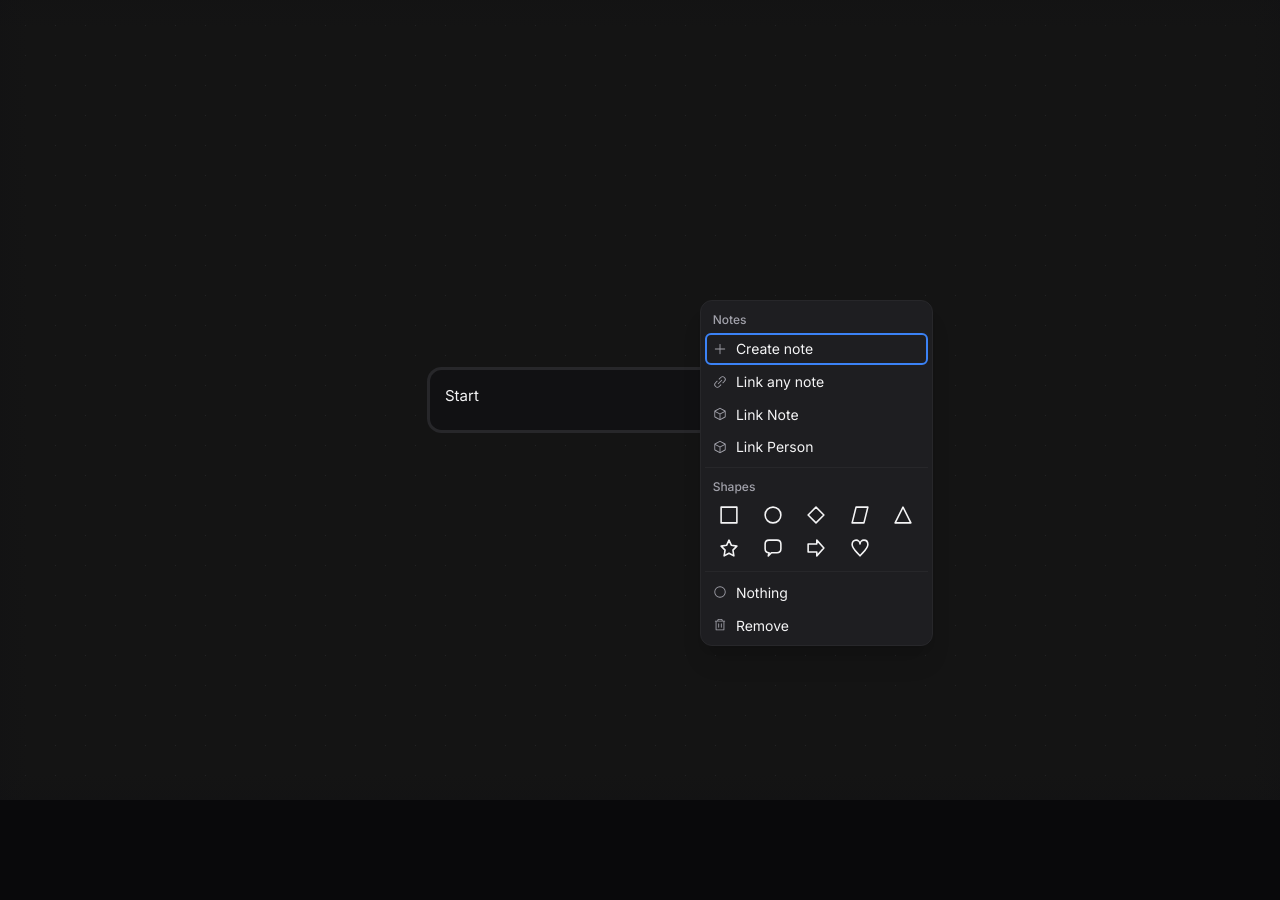
it: quick-create on a connector drop › test quick create a shape places it at the drop point
Click the menu item named "Ellipse" at (773, 515), box [752,500,794,530]
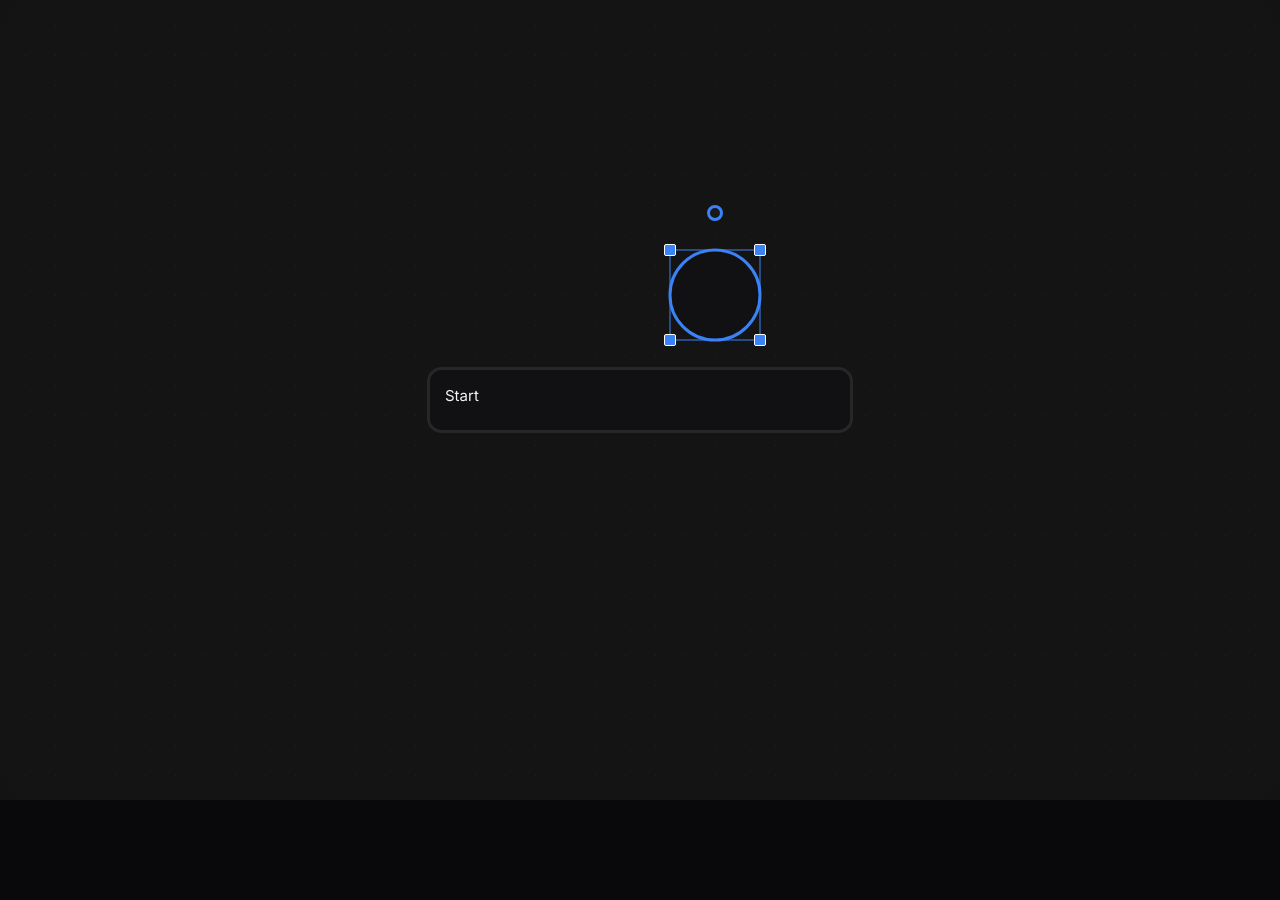
Expected: the text "Notes" is gone
